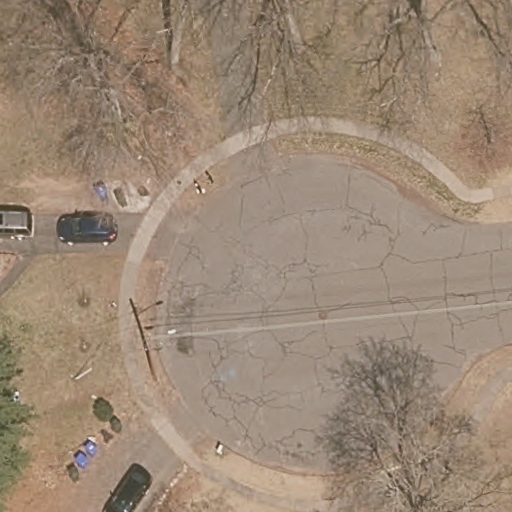DT: (138, 316, 163, 355)
